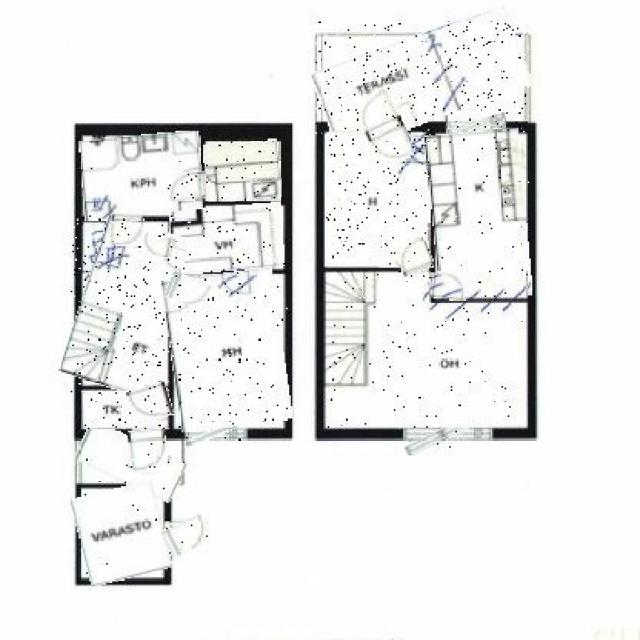door: (324, 270, 528, 428), (315, 22, 528, 138), (168, 271, 288, 429), (71, 218, 177, 392), (431, 131, 529, 300), (326, 134, 431, 266), (80, 134, 202, 217), (75, 484, 168, 582), (170, 204, 284, 270), (77, 431, 185, 492), (204, 140, 282, 200), (80, 391, 169, 429)
window: (360, 92, 411, 166), (163, 517, 211, 554), (130, 385, 172, 423), (129, 429, 166, 471), (166, 274, 209, 306), (397, 240, 432, 274), (429, 272, 468, 300), (168, 172, 208, 198), (111, 216, 143, 247), (142, 234, 176, 257)
zone: (403, 418, 489, 448), (186, 426, 243, 442), (446, 120, 506, 135), (329, 122, 366, 136)
